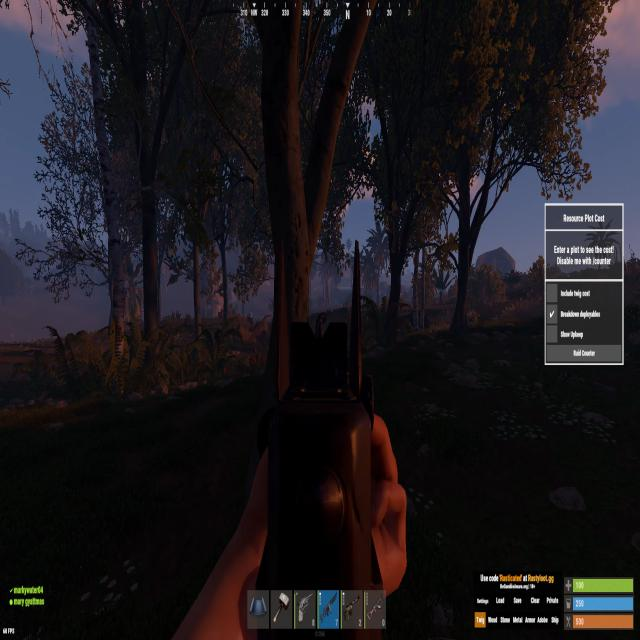Player: (316, 310, 326, 337)
